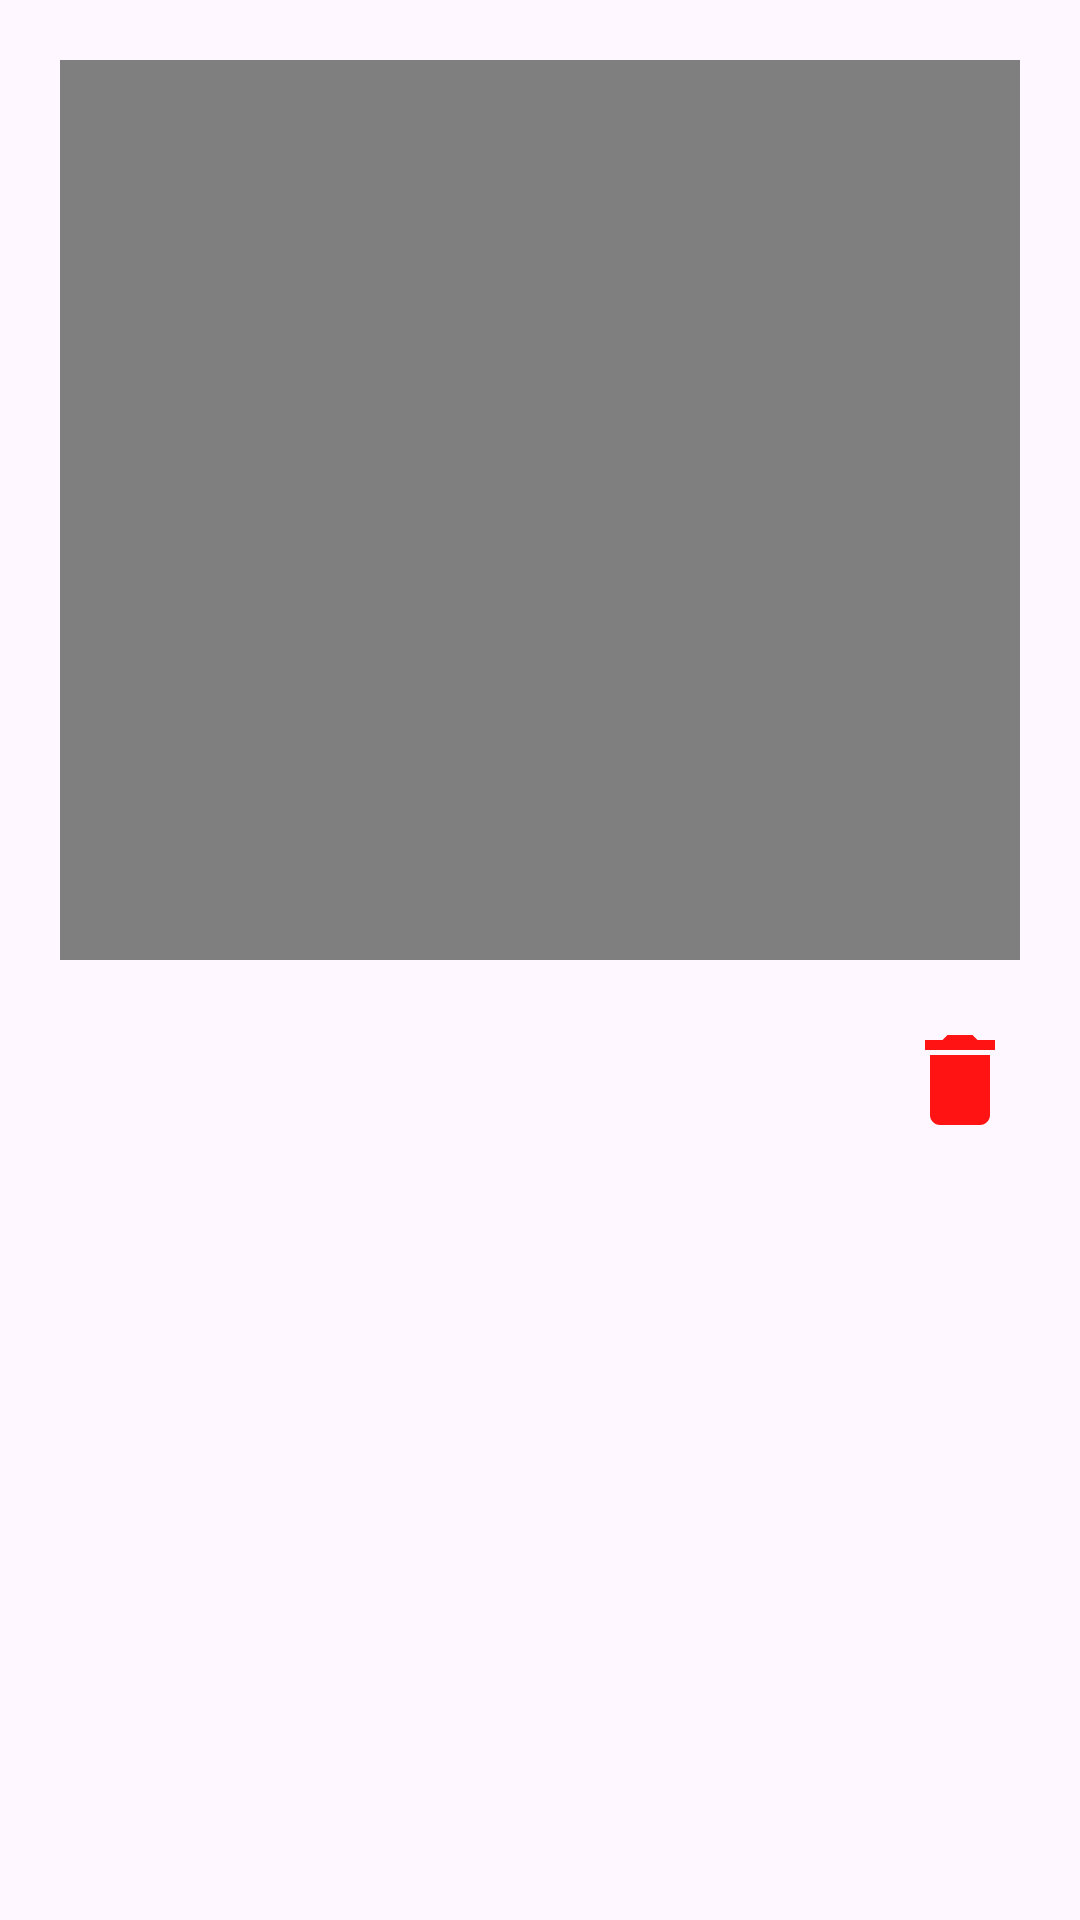

Locate icon controls on the screen. Image size 1080w x 1920h, boxes as [left=x1, top=y1, right=x2, bottom=y2].
delete: [left=925, top=1035, right=995, bottom=1125]
